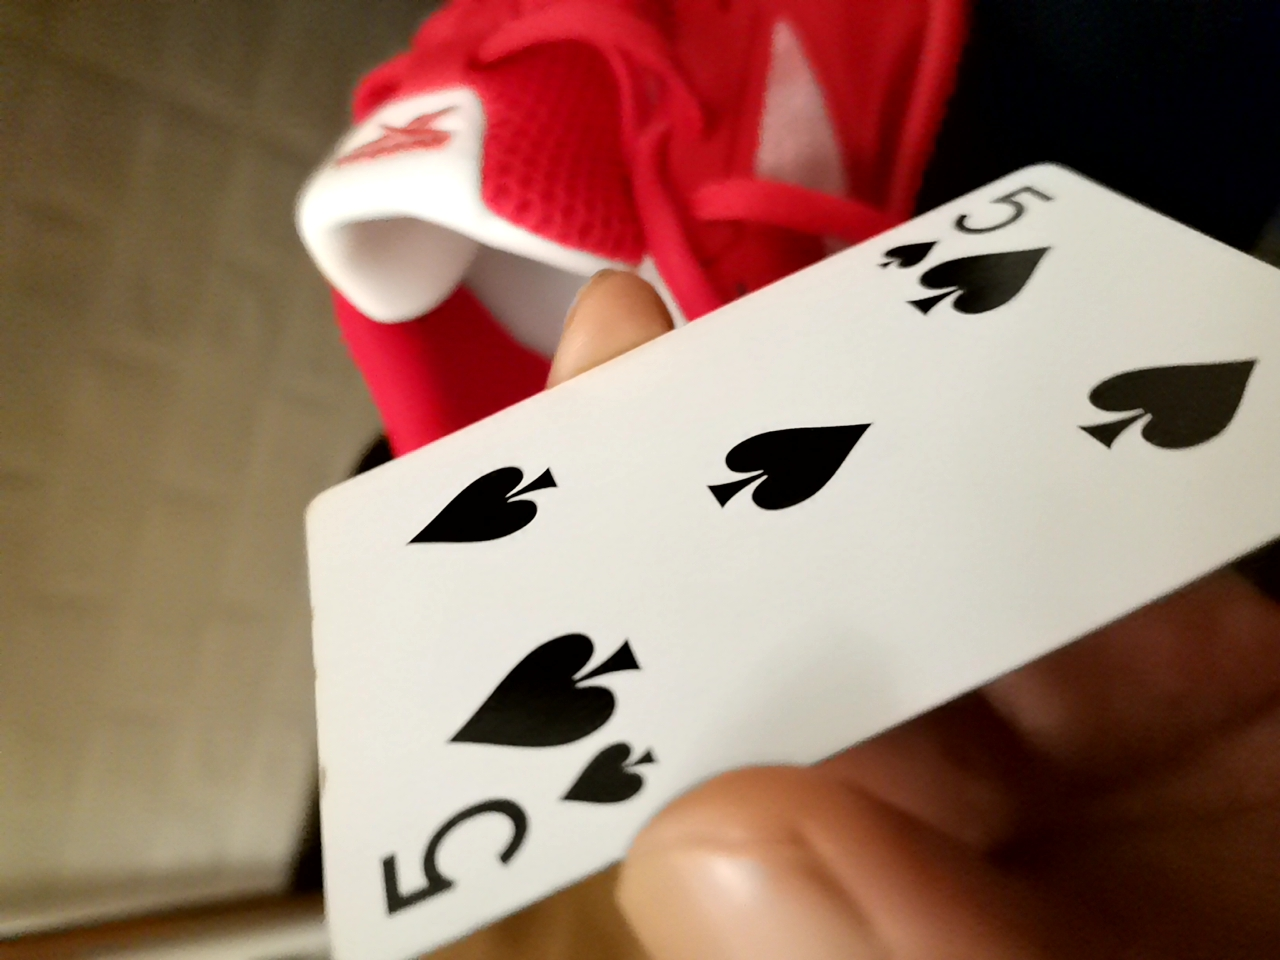ht 5: (293, 168, 1280, 925)
